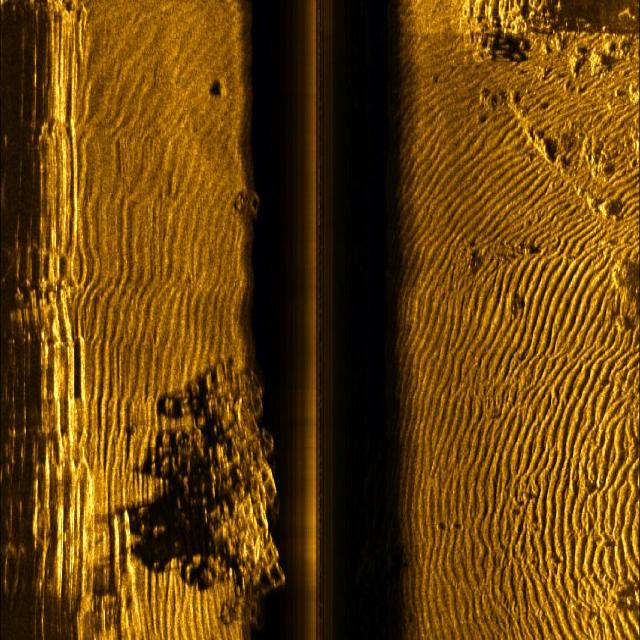artificial reef: (161, 337, 282, 622), (231, 188, 269, 231)
